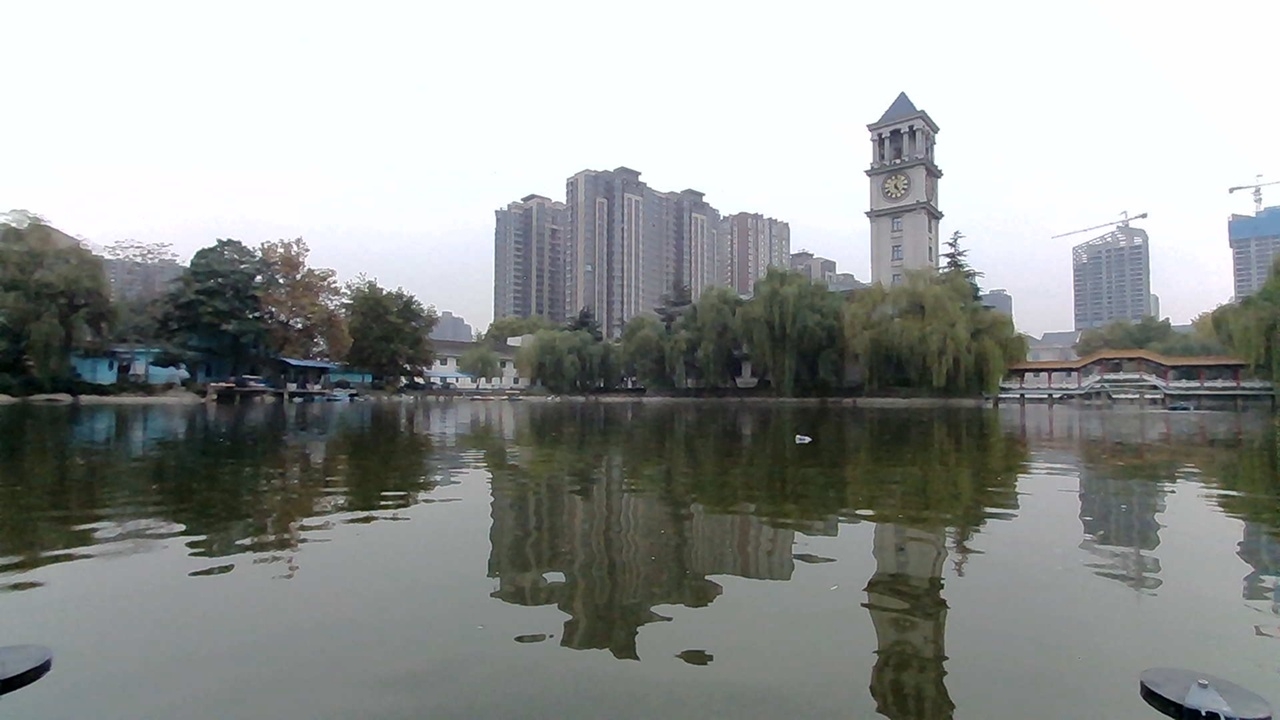bottle: (790, 421, 829, 451)
